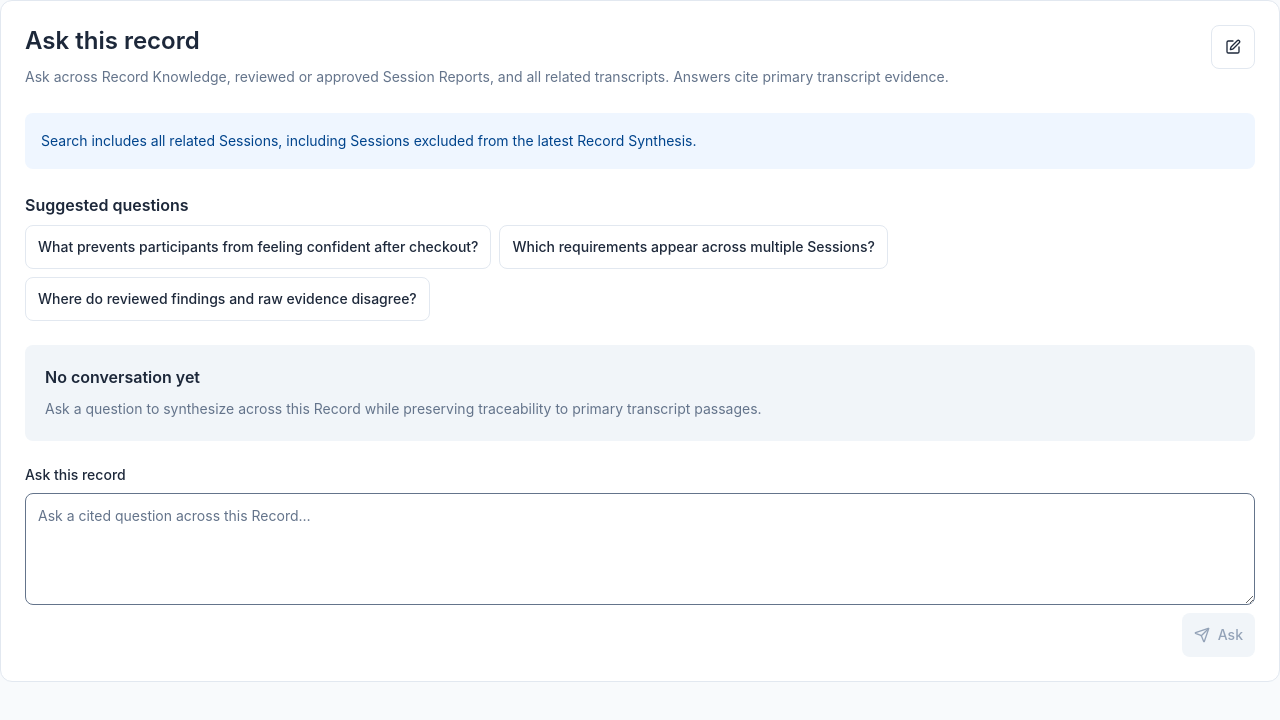
Test case: Ask Record Storybook components › moves a suggested question into the composer without submitting it
Click the button "What prevents participants from feeling confident after checkout?".
click(258, 247)  # box x1=25 y1=225 x2=492 y2=269
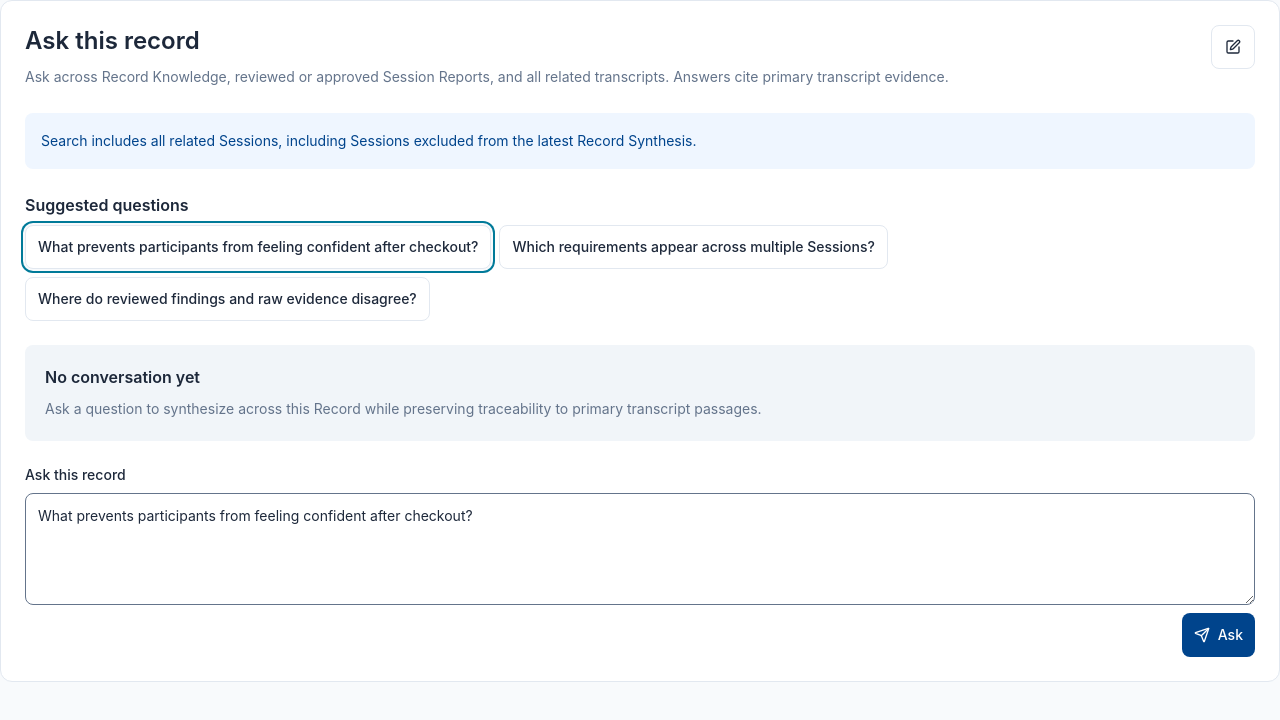
Expected: the text box labelled "Ask this record" holds "What prevents participants from feeling confident after checkout?", x1=25 y1=493 x2=1255 y2=605
